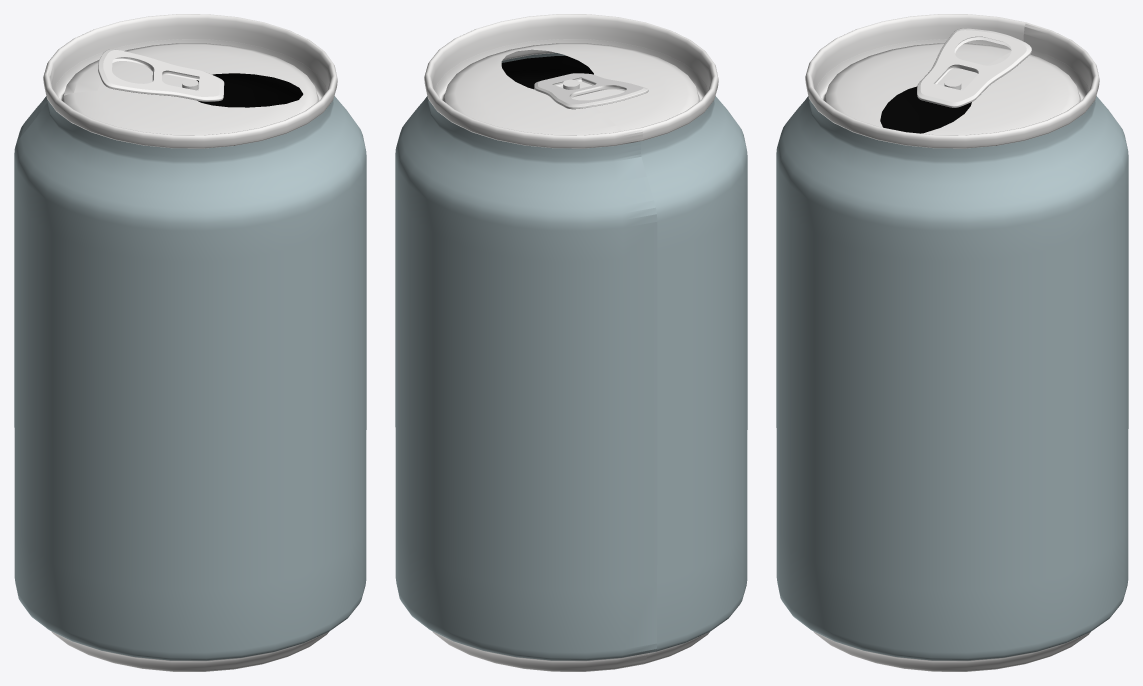
File: coke_can.FBX
3 renders of one model, left to right at view 1: azimuth 30°, elevation 25°; view 2: azimuth 150°, elevation 25°; view 3: azimuth 270°, elevation 25°, orthographic.
Visible parts, largest first — view 1: lattina, anello, inside; view 2: lattina, anello, inside; view 3: lattina, anello, inside.
Boxes of the visible parts, x1,y1,x2,y2 form: lattina: (14,14,366,671); anello: (98,49,224,101); inside: (196,73,303,107); lattina: (395,14,747,671); anello: (534,73,648,109); inside: (501,56,593,89); lattina: (776,14,1128,671); anello: (917,28,1031,107); inside: (880,86,971,133).
Bounding box in the file's own units: 27.59 × 47.2 × 27.7.
